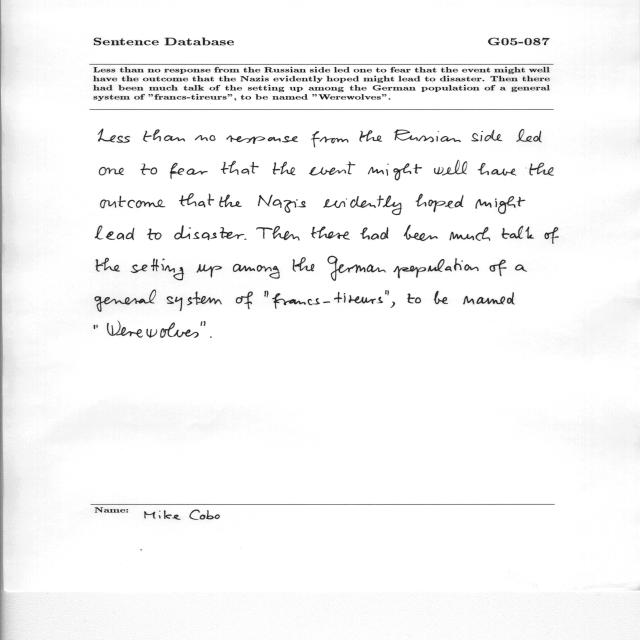word: (272, 292, 383, 309), (394, 259, 479, 279), (323, 195, 402, 215), (107, 321, 199, 338), (327, 256, 386, 281), (95, 290, 156, 312), (131, 259, 185, 281), (167, 291, 222, 311), (174, 225, 247, 240), (368, 163, 422, 180), (476, 196, 526, 214), (394, 130, 461, 143), (258, 195, 306, 213), (416, 194, 464, 212), (101, 196, 166, 208), (233, 264, 279, 279), (463, 292, 515, 305), (226, 135, 298, 144), (311, 131, 349, 148), (309, 162, 355, 176), (170, 163, 207, 179), (450, 227, 491, 241), (143, 129, 185, 142), (95, 226, 134, 240), (404, 225, 438, 241), (221, 161, 259, 175), (311, 226, 349, 240), (434, 160, 467, 176), (478, 163, 516, 176), (179, 194, 214, 208), (98, 129, 130, 143), (502, 226, 534, 239), (273, 226, 300, 240), (360, 227, 389, 240), (196, 264, 222, 278), (516, 129, 542, 142), (96, 258, 120, 272), (472, 130, 502, 141), (293, 257, 315, 272), (529, 163, 554, 176), (236, 292, 253, 310), (273, 162, 296, 175), (490, 260, 507, 277), (359, 130, 382, 142), (219, 195, 242, 207), (545, 227, 559, 244), (141, 163, 158, 175), (256, 227, 273, 239), (99, 167, 124, 175), (434, 291, 448, 304), (147, 229, 162, 240), (407, 294, 421, 304), (195, 135, 216, 141), (515, 264, 527, 272), (390, 302, 395, 308), (265, 291, 269, 298), (201, 321, 206, 326), (385, 290, 389, 295), (94, 325, 98, 329), (210, 336, 212, 338)
